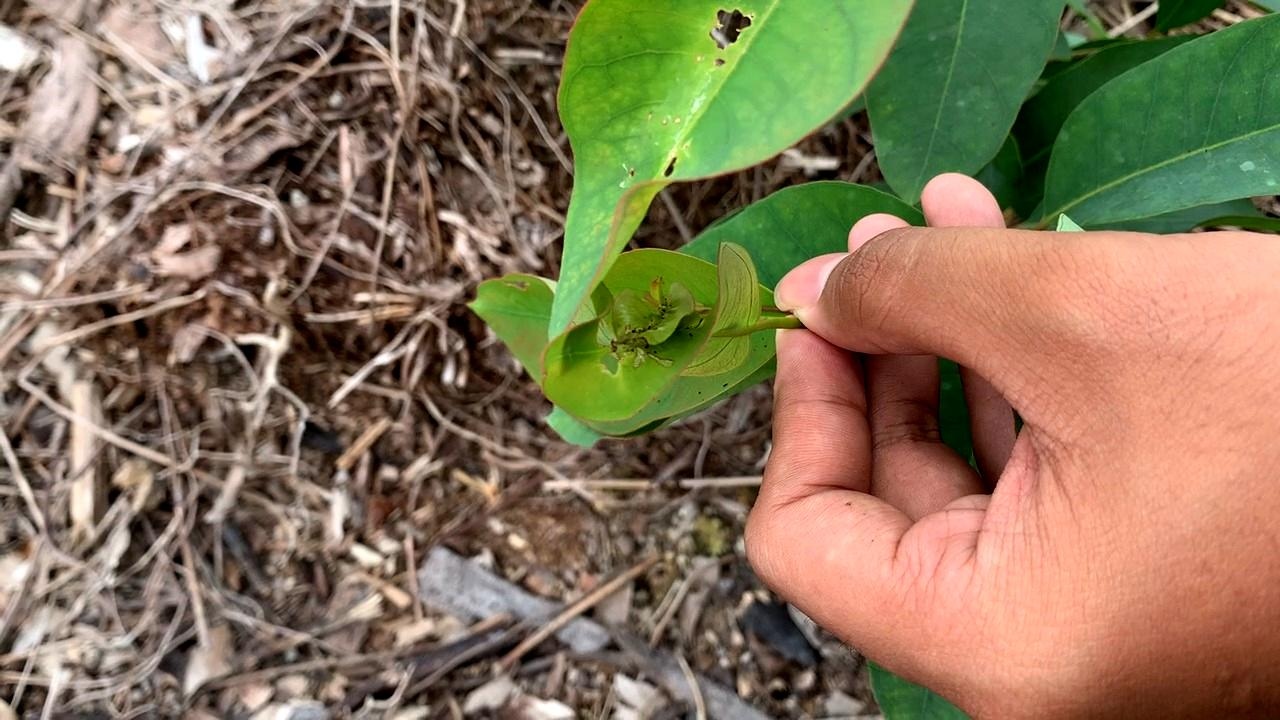Leaf Roller - Leaf: (522, 236, 785, 434)
